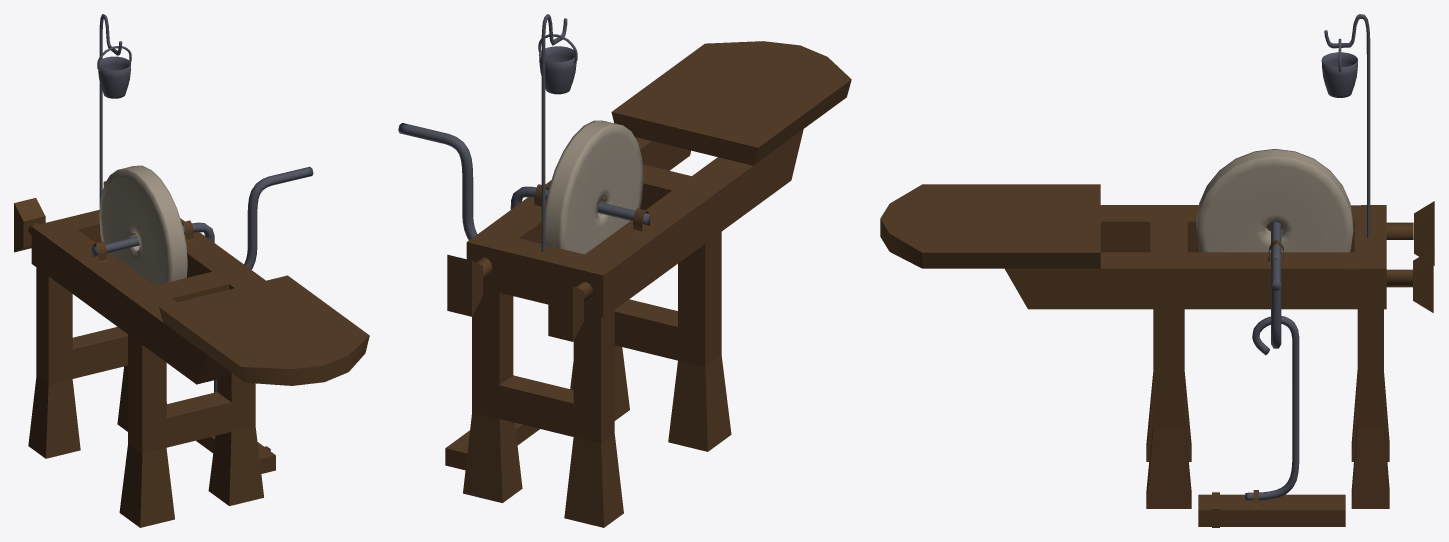
File: grindstone.glb
3 renders of one model, left to right at view 1: azimuth 30°, elevation 25°; view 2: azimuth 150°, elevation 25°; view 3: azimuth 270°, elevation 25°, orthographic. The views are drawn at different scales.
Visible parts, largest first — view 1: Cube.006, Cube.007, Cube.004, Cube.003, Cube.018, Cube.008, Cube.002, Cube.015; view 2: Cube.006, Cube.007, Cube.004, Cube.003, Cube.009, Cube.008, Cube.018, Cube.002, Cube.015; view 3: Cube.006, Cube.007, Cube.004, Cube.015, Cube.005, Cube.018, Cube.003, Cube.002, Cube.009, Cube.008.
Boxes of the visible parts, x1,y1,x2,y2 form: Cube.006: (28,209,265,527); Cube.007: (159,275,369,385); Cube.004: (99,165,187,285); Cube.003: (91,166,313,269); Cube.018: (98,56,130,98); Cube.008: (14,198,45,252); Cube.002: (99,14,122,207); Cube.015: (196,436,275,473); Cube.006: (463,129,803,527); Cube.007: (611,41,851,165); Cube.004: (545,120,643,254); Cube.003: (398,123,650,239); Cube.009: (447,254,482,316); Cube.008: (548,279,583,341); Cube.018: (539,46,576,94); Cube.002: (541,14,567,252); Cube.015: (445,423,539,470); Cube.006: (1005,205,1389,508); Cube.007: (880,184,1100,268); Cube.004: (1196,149,1353,252); Cube.015: (1198,494,1345,526); Cube.005: (1245,316,1299,500); Cube.018: (1321,52,1357,97); Cube.003: (1271,222,1281,348); Cube.002: (1324,14,1370,237); Cube.009: (1413,248,1433,312); Cube.008: (1414,201,1434,265).
Bounding box in the file's own units: 0.8917 × 1.56 × 1.69.
